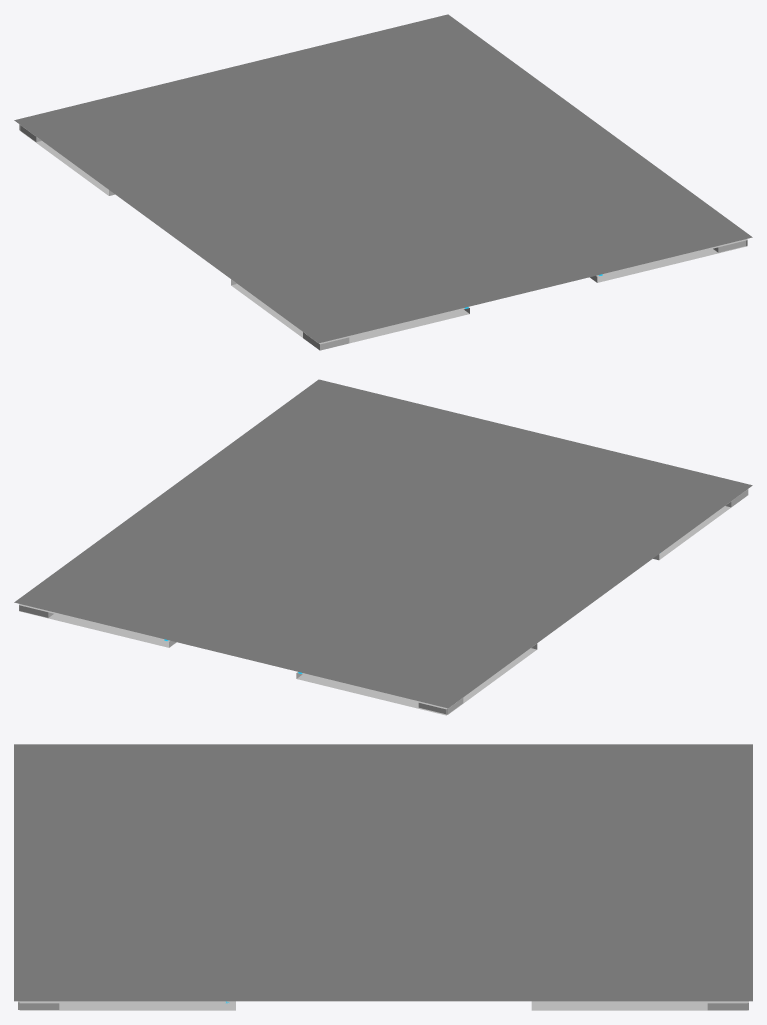
File: Teto_Hall_SegundoAndar.gltf
3 views of the same model, one above another, from view 1: azimuth 30°, elevation 25°; view 2: azimuth 150°, elevation 25°; view 3: azimuth 270°, elevation 25° (orthographic). The views are drawn at different scales.
Visible parts, largest first — view 1: TetoHall; view 2: TetoHall; view 3: TetoHall.
Boxes of the visible parts, x1,y1,x2,y2 form: TetoHall: [14, 14, 752, 350]; TetoHall: [14, 379, 752, 715]; TetoHall: [14, 744, 752, 1010].
Size of the model in its own units: 14.79 by 0.3 by 17.98.
2 materials, 1 textured.
